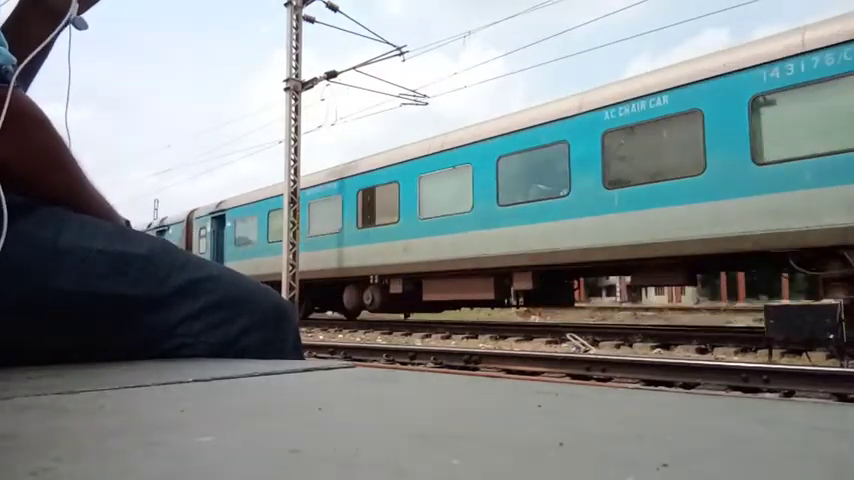Boogie: (742, 50, 822, 89)
Car Type: (595, 86, 677, 121)
